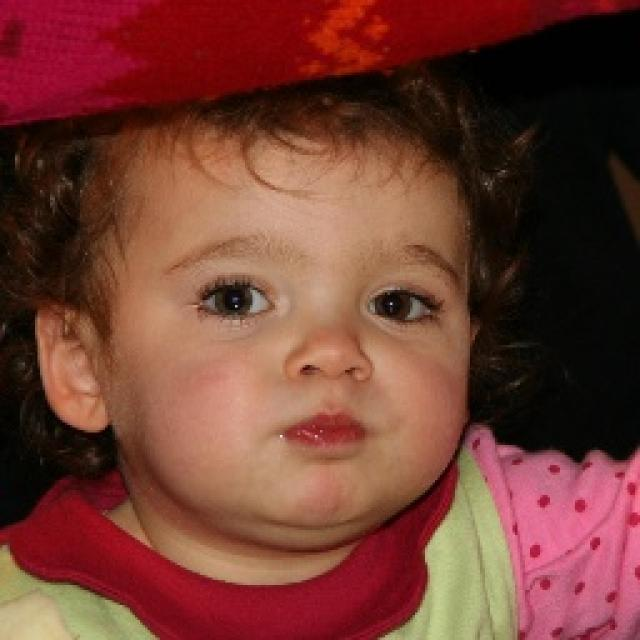earlobe: (72, 388, 112, 435)
eye: (193, 282, 275, 319), (363, 287, 437, 323)
nose: (282, 354, 380, 414)
wholeear: (34, 298, 112, 434)
